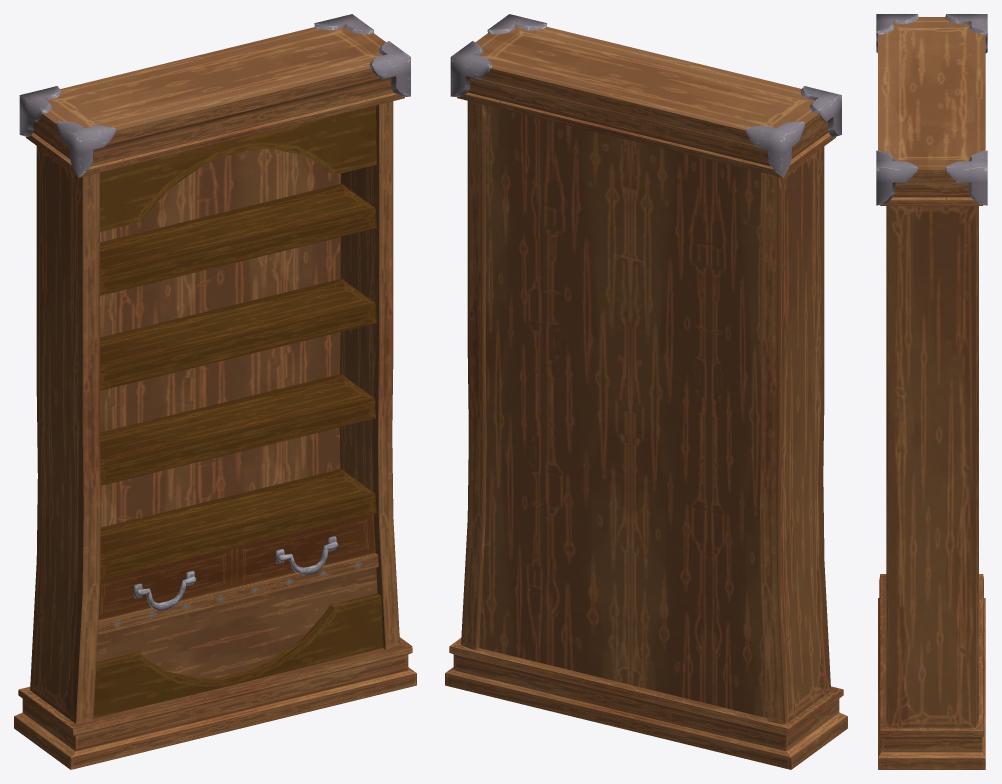
Rendered from Bookcase_2.gltf.
The picture shows the model from 3 angles, left to right: view 1: azimuth 30°, elevation 25°; view 2: azimuth 150°, elevation 25°; view 3: azimuth 270°, elevation 25°; orthographic projection. The views are drawn at different scales.
Parts seen in each view (by area): view 1: Bookcase_2; view 2: Bookcase_2; view 3: Bookcase_2.
Part boxes in pixels (<box>): Bookcase_2: <box>14,14,416,769</box>; Bookcase_2: <box>445,14,847,769</box>; Bookcase_2: <box>876,14,987,769</box>.
Bounding box in the file's own units: 1.46 × 2.54 × 0.429.
Materials: 2 (2 with a texture image).
